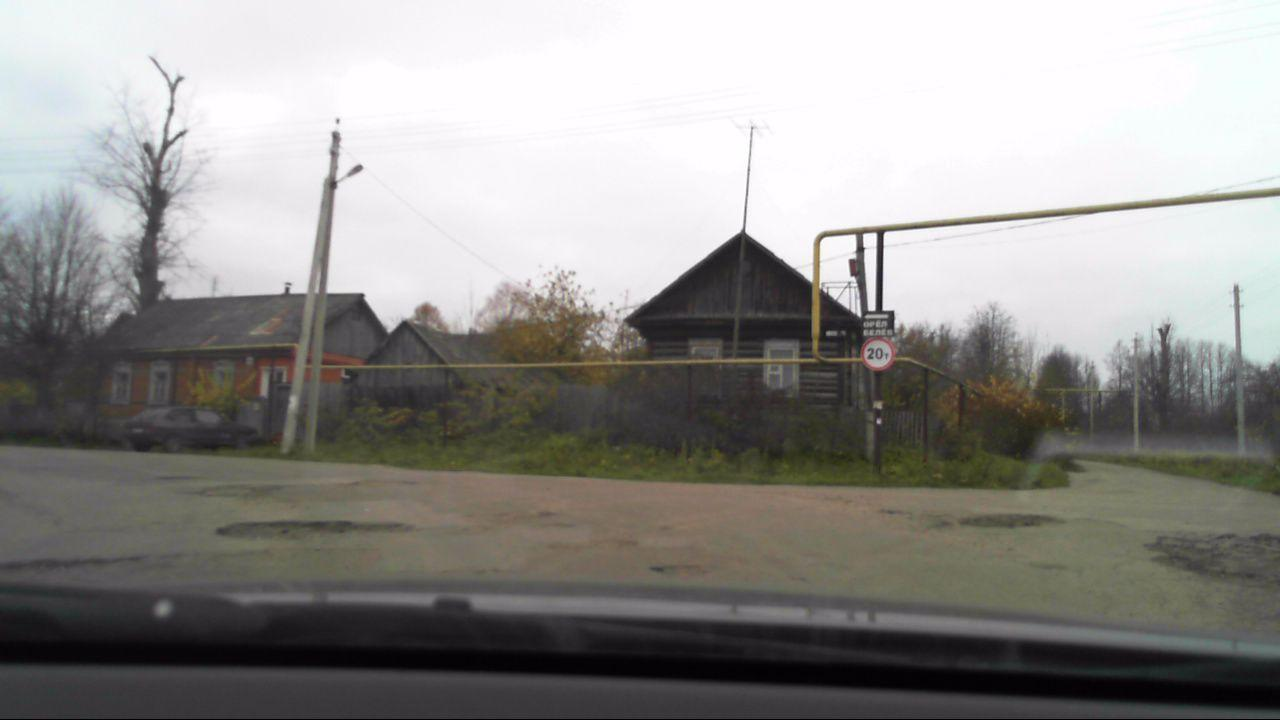3_11: (861, 336, 895, 369)
